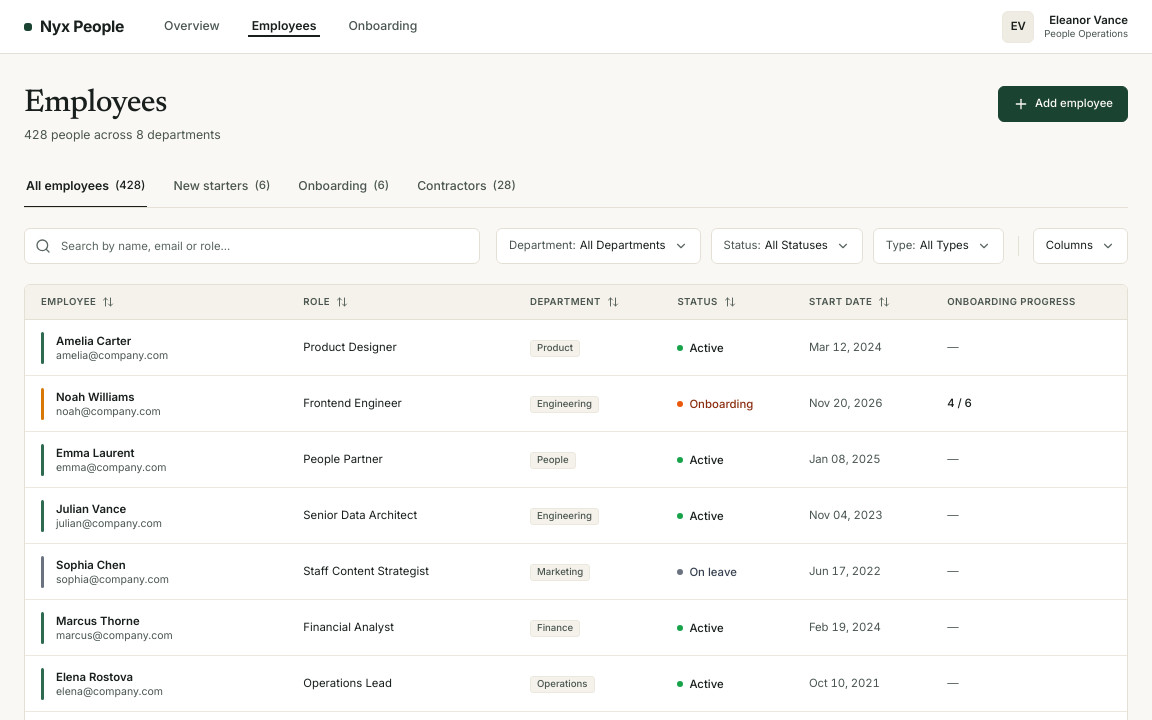
it: EmployeeDirectory Integration › switches editorial tabs and filters accordingly
expect the link "Amelia Carter" is shown: met, box top-left (56, 334), bottom-right (131, 348)
// Click Onboarding tab
Click the button "Onboarding (6)": click(344, 188) top-left (296, 169), bottom-right (391, 207)
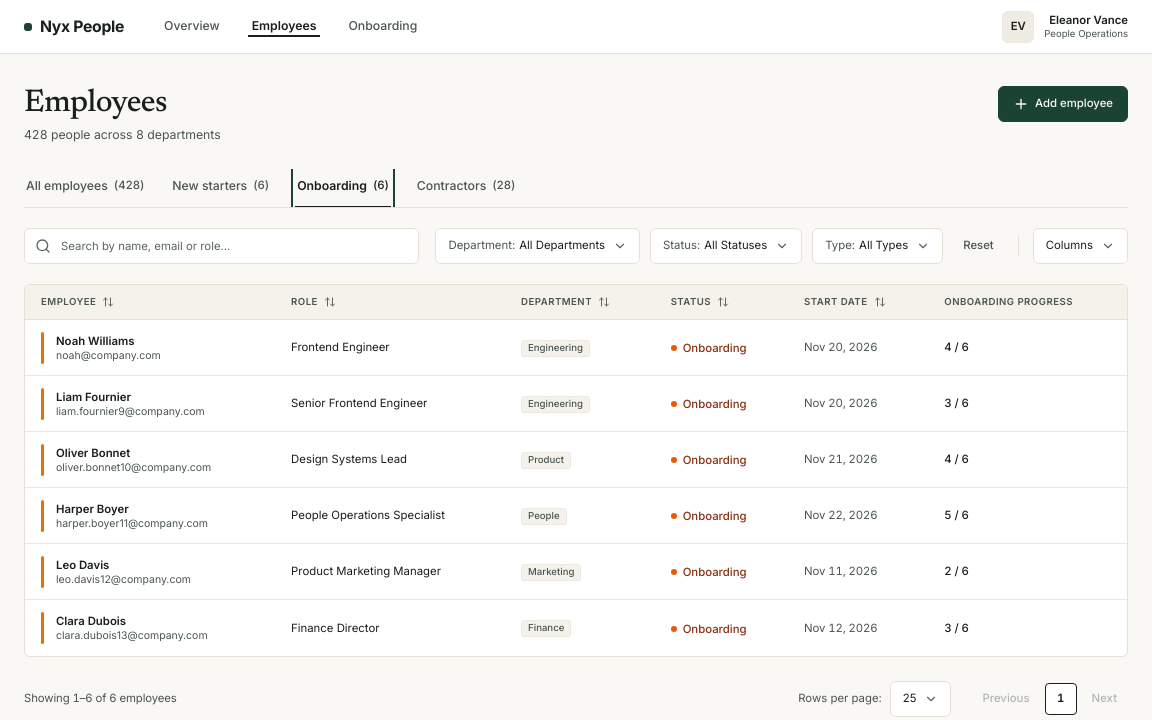
expect the link "Noah Williams" is shown: met, box top-left (56, 334), bottom-right (134, 348)
expect the link "Amelia Carter" is gone: met
